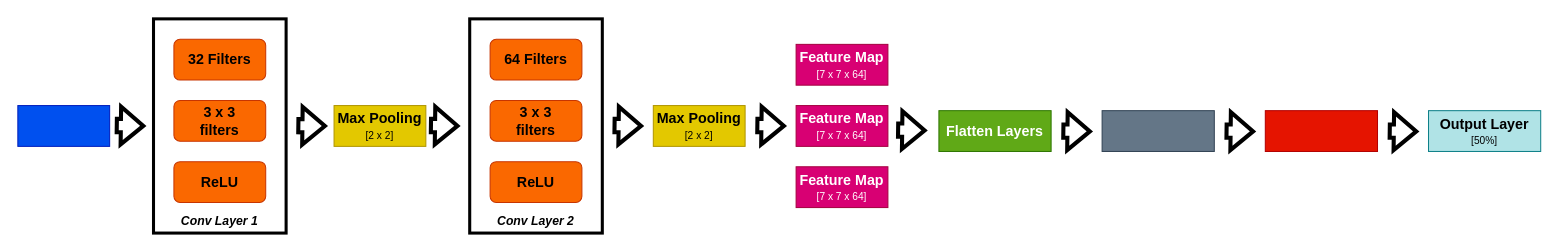
Image size: 1559x252. Some labels were removed from this diagram. The centre of each missing label's shape, as x and y in pixels:
"Dense Layer" belongs at (1157,130).
"Dropout Layer [50%]" belongs at (1321,130).
"Input [28x28x3]" belongs at (63,125).
